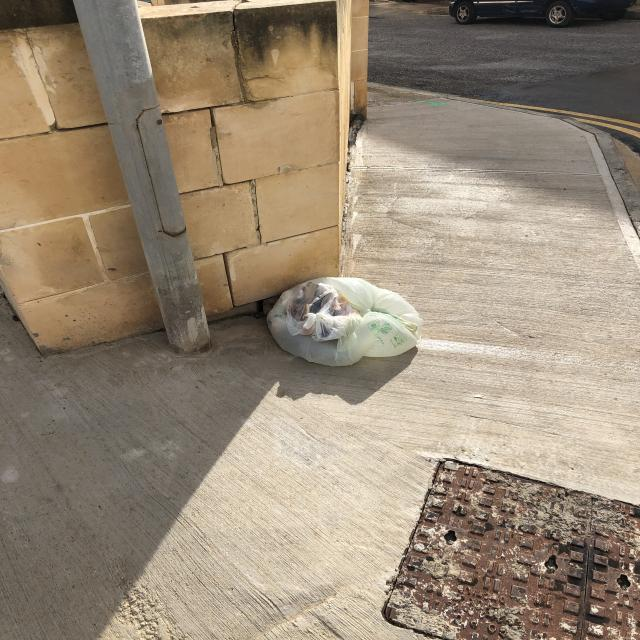Organic Waste -White Bag-: (262, 275, 422, 374)
